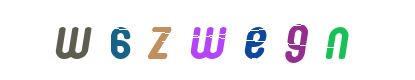6: (128, 0, 208, 80)
E: (168, 0, 248, 80)
G: (257, 0, 337, 80)
N: (297, 0, 377, 80)
W: (32, 0, 112, 80), (167, 0, 247, 80)
Z: (146, 0, 226, 80)
